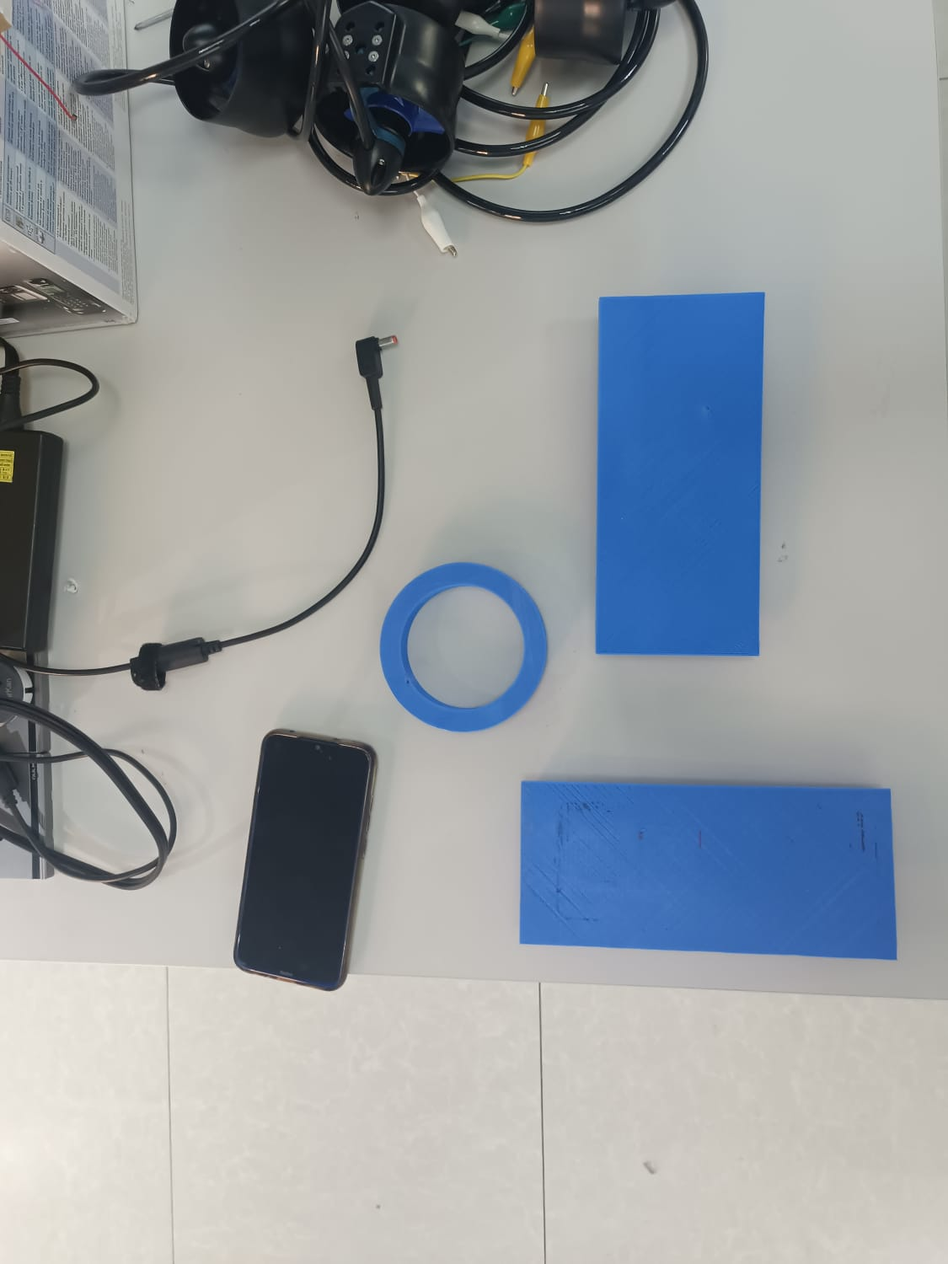Circle: (375, 556, 556, 736)
Rectangular: (516, 771, 903, 965), (586, 287, 771, 664)
